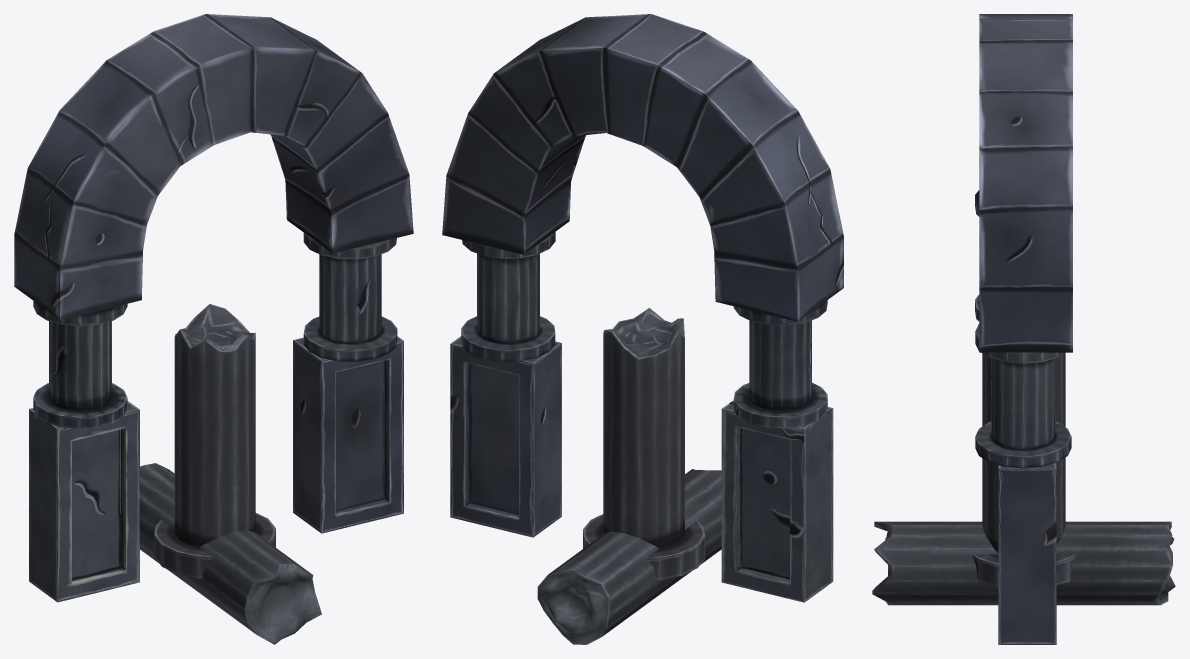
File: Stone.fbx
3 renders of one model, left to right at view 1: azimuth 30°, elevation 25°; view 2: azimuth 150°, elevation 25°; view 3: azimuth 270°, elevation 25°, orthographic. The views are drawn at different scales.
Visible parts, largest first — view 1: Stone_01, Stone_02, Stone_03; view 2: Stone_01, Stone_02, Stone_03; view 3: Stone_01, Stone_03, Stone_02.
Part boxes in pixels (left/top/right/bottom): Stone_01: left=14, top=14, right=413, bottom=602; Stone_02: left=154, top=304, right=275, bottom=578; Stone_03: left=140, top=463, right=321, bottom=644; Stone_01: left=442, top=14, right=843, bottom=602; Stone_02: left=583, top=308, right=705, bottom=580; Stone_03: left=537, top=469, right=721, bottom=644; Stone_01: left=975, top=14, right=1072, bottom=644; Stone_03: left=872, top=521, right=1175, bottom=605; Stone_02: left=972, top=353, right=1075, bottom=587.
Bounding box in the file's own units: 694 × 1042 × 505.
